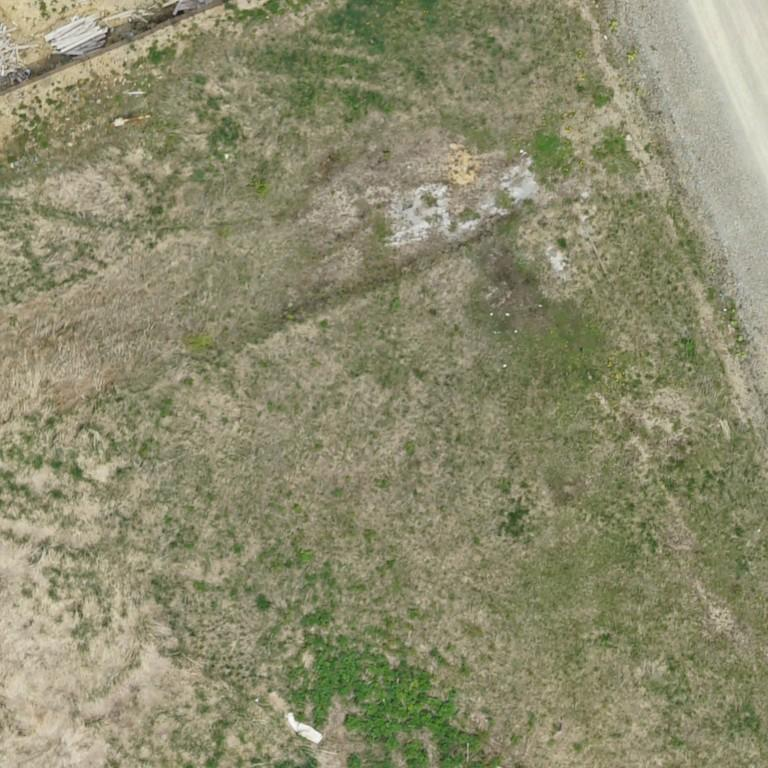hogweed: (289, 639, 486, 767), (405, 742, 426, 767)
